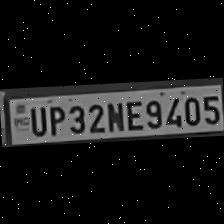0: (180, 93, 200, 125)
2: (84, 100, 106, 132)
3: (64, 101, 84, 133)
4: (160, 94, 182, 128)
5: (199, 92, 221, 124)
9: (142, 96, 162, 128)
E: (122, 97, 142, 130)
N: (102, 98, 124, 132)
P: (46, 102, 65, 136)
U: (26, 103, 46, 135)
